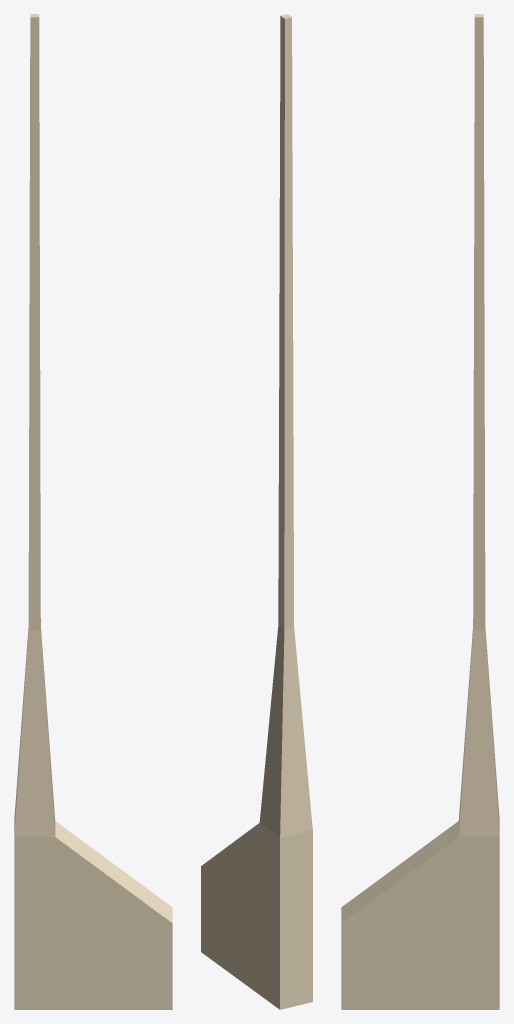
3 views of the same model, side by side, from view 1: azimuth 90°, elevation 25°; view 2: azimuth 210°, elevation 25°; view 3: azimuth 270°, elevation 25° (orthographic).
Visible parts, largest first — view 1: Object05; view 2: Object05; view 3: Object05.
Boxes of the visible parts, x1,y1,x2,y2 form: Object05: [14, 14, 172, 1009]; Object05: [201, 14, 312, 1009]; Object05: [341, 14, 499, 1009].
Size of the model in its own units: 8.61 by 247 by 35.95.
